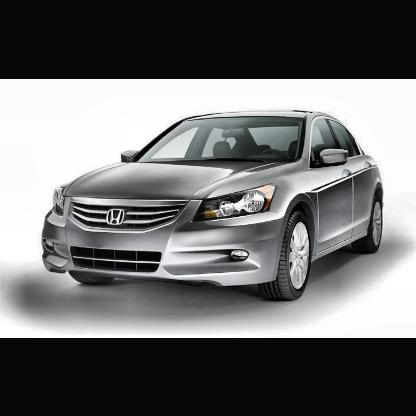Honda Accord Sedan 2012: (44, 110, 385, 300)
